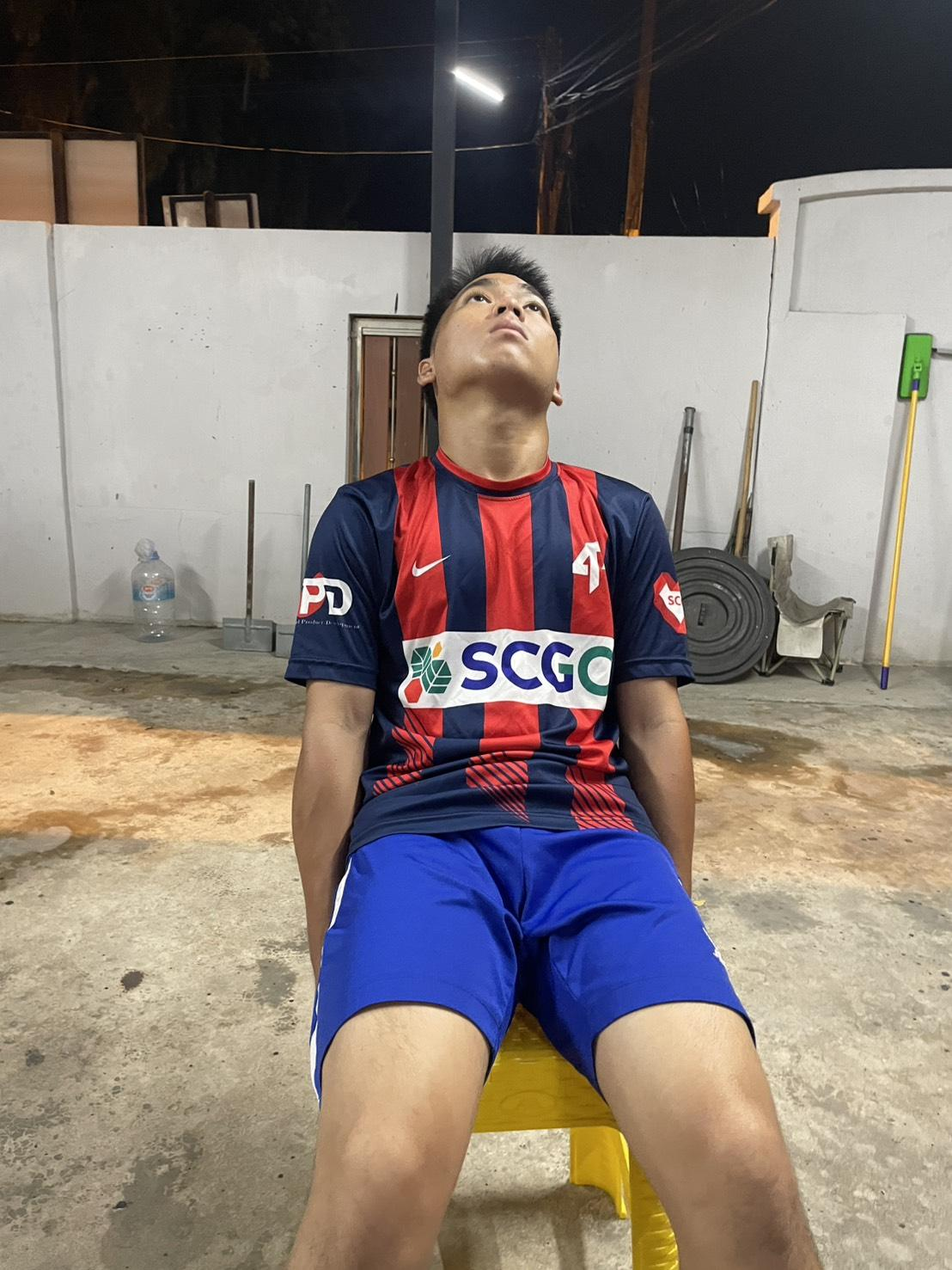BadPosture: (287, 245, 752, 1080), (289, 247, 693, 933)
